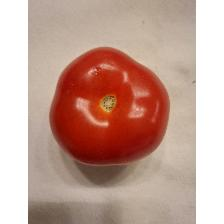Tomate: (48, 44, 174, 168)
